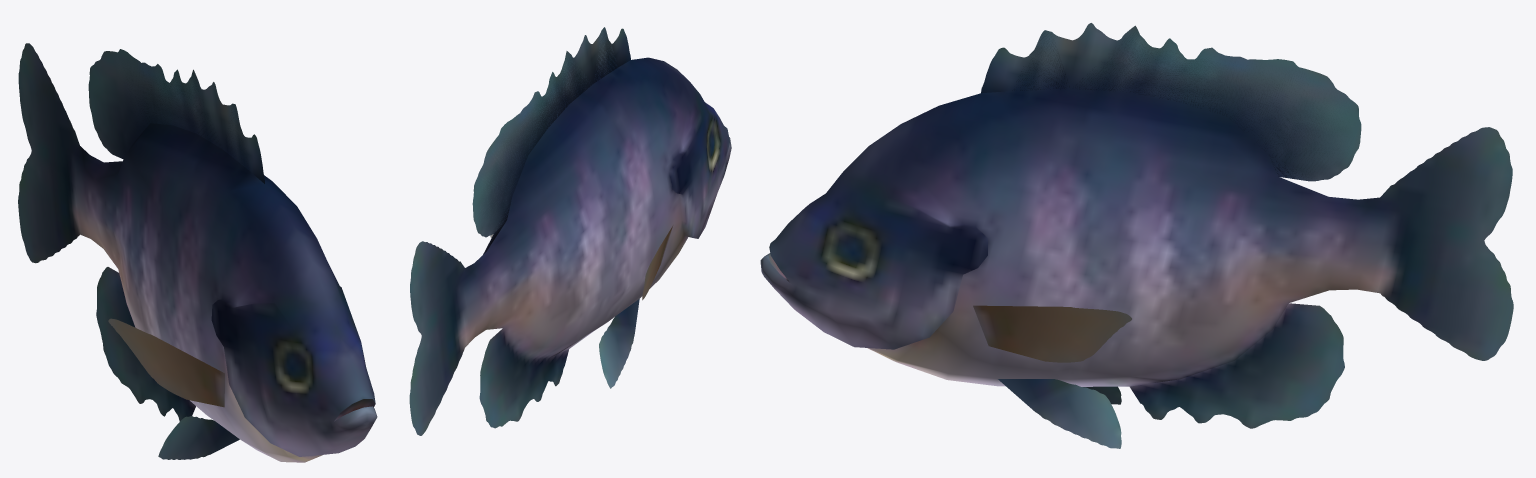
The model's file is bluegill.glb.
The picture shows the model from 3 angles, left to right: view 1: azimuth 30°, elevation 25°; view 2: azimuth 150°, elevation 25°; view 3: azimuth 270°, elevation 25°; orthographic projection. The views are drawn at different scales.
Size of the model in its own units: 1.6 by 3.21 by 5.2.
Materials: 1 (1 with a texture image).
